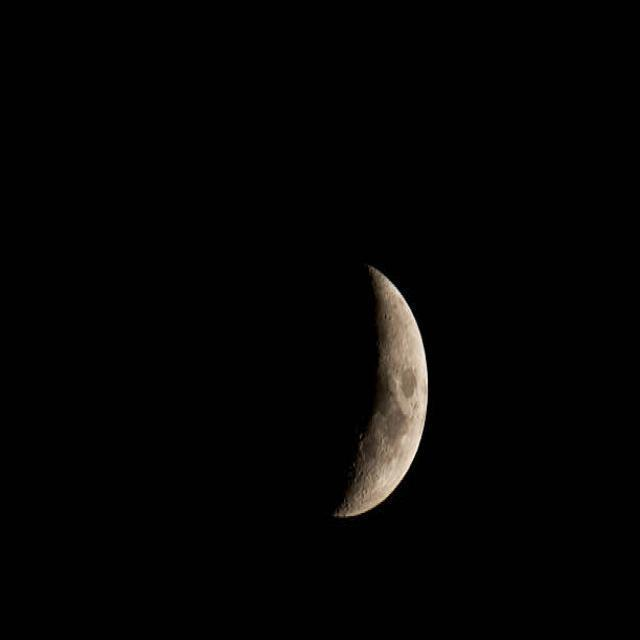moon: (254, 256, 431, 526)
